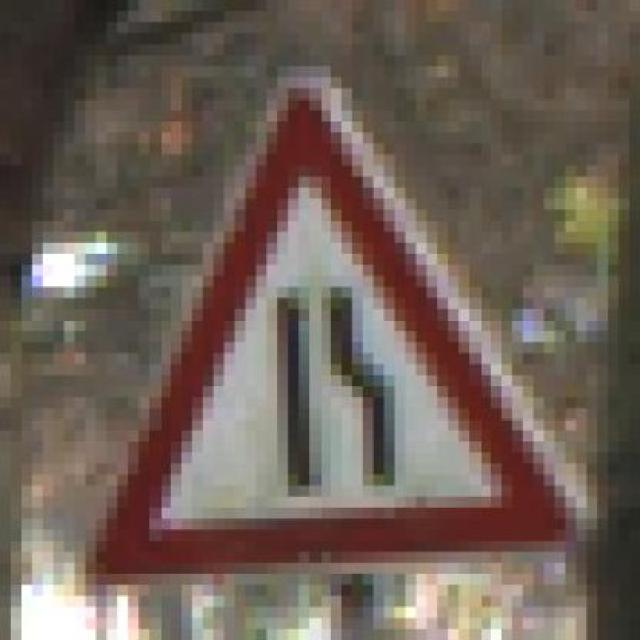-Road narrows on right: (61, 57, 574, 588)
